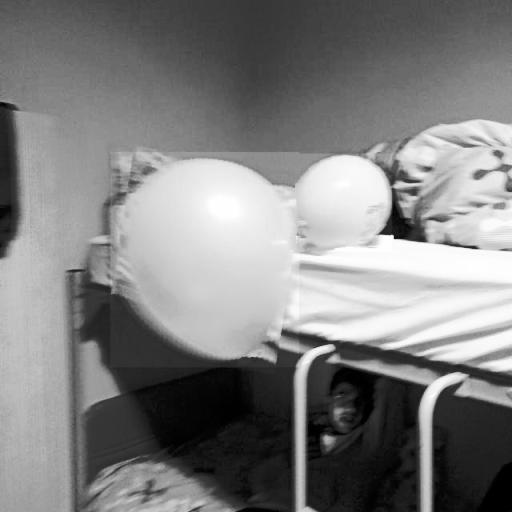balloon: (110, 152, 300, 367), (295, 154, 392, 251)
